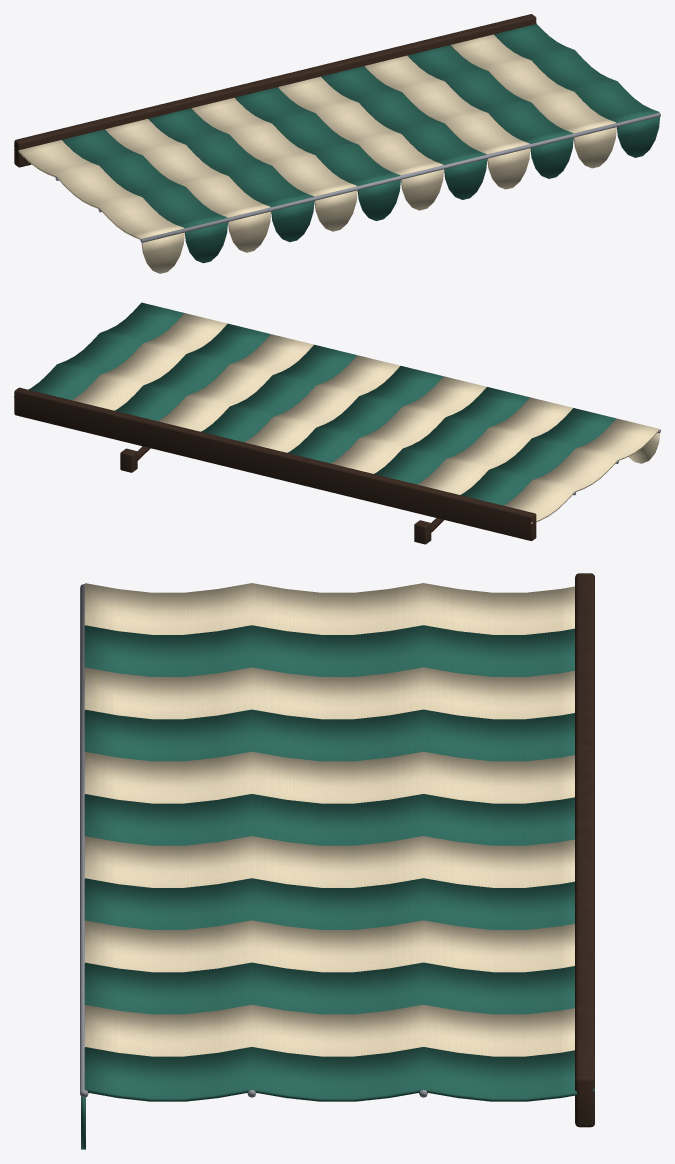
File: trumua-cafe-awning.glb
3 views of the same model, one above another, from view 1: azimuth 30°, elevation 25°; view 2: azimuth 150°, elevation 25°; view 3: azimuth 270°, elevation 25° (orthographic). The views are drawn at different scales.
Parts seen in each view (by area): view 1: trumua-cafe-awning; view 2: trumua-cafe-awning; view 3: trumua-cafe-awning.
Part boxes in pixels (x1,y1,x2,y2): trumua-cafe-awning: (14,14,660,273); trumua-cafe-awning: (14,302,660,544); trumua-cafe-awning: (80,573,594,1149).
Size of the model in its own units: 3 by 0.3 by 1.29.
1 material, 1 textured.
